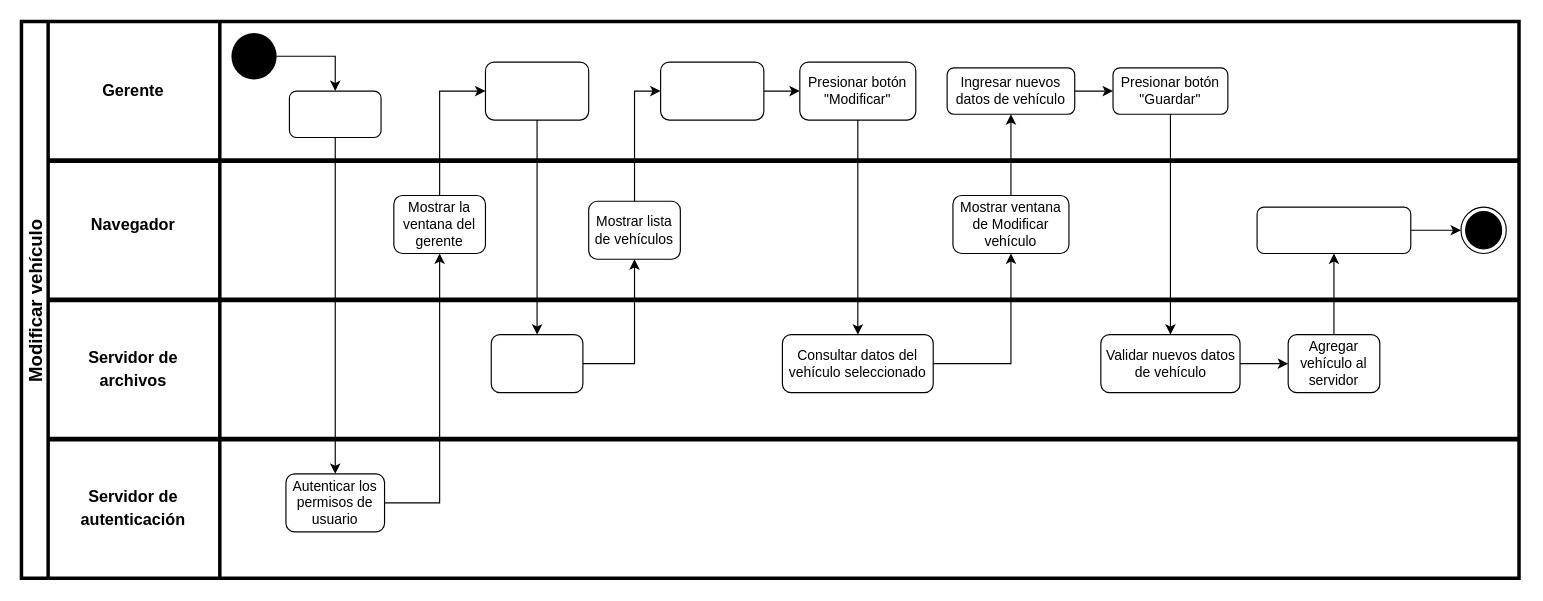
The diagram is 1543 pixels wide and 601 high, and some of its shapes have lost their labels. The centre of each missing label's shape, as x and y in pixels:
Consultar vehículos: the point at 536,363
Ingresar su usuario: the point at 334,113
Mostrar mensaje "Vehículo modificado": the point at 1333,229
Seleccionar la ventana de vehículos: the point at 536,90
Seleccionar un vehículo: the point at 711,90
